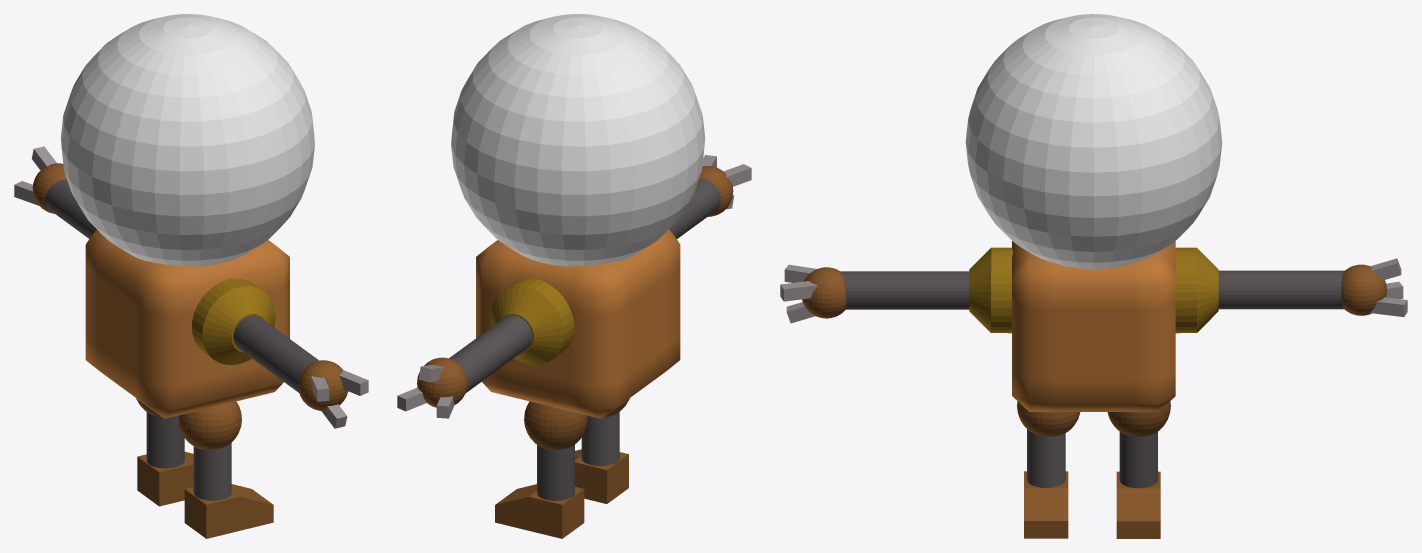
Rendered from Zombiebot.fbx.
The picture shows the model from 3 angles, left to right: view 1: azimuth 30°, elevation 25°; view 2: azimuth 150°, elevation 25°; view 3: azimuth 270°, elevation 25°; orthographic projection.
Parts seen in each view (by area): view 1: Sphere.002, Mball, Cylinder, Cube, Cylinder.002, Sphere.001, Cube.001, Cylinder.003, Cylinder.005, Sphere.005, Cylinder.004, Sphere.006 (+1 smaller); view 2: Sphere.002, Mball, Cylinder.001, Cube.001, Cylinder.004, Sphere, Cube, Cylinder.005, Cylinder.003, Sphere.006, Cylinder.002, Sphere.005 (+2 smaller); view 3: Sphere.002, Mball, Cylinder.004, Cylinder.002, Cylinder.001, Cylinder, Cube, Cube.001, Cylinder.003, Cylinder.005, Sphere.006, Sphere.005 (+2 smaller).
Boxes of the visible parts, x1,y1,x2,y2 form: Sphere.002: (61,14,314,266); Mball: (85,229,289,418); Cylinder: (191,278,275,364); Cube: (184,484,273,538); Cylinder.002: (233,315,318,392); Sphere.001: (178,401,241,449); Cube.001: (137,451,193,506); Cylinder.003: (193,443,231,500); Cylinder.005: (146,412,184,468); Sphere.005: (298,360,347,410); Cylinder.004: (45,179,96,238); Sphere.006: (32,163,66,213); Sphere.002: (451,14,705,266); Mball: (476,229,680,418); Cylinder.001: (490,278,574,364); Cube.001: (495,484,584,538); Cylinder.004: (449,315,532,392); Sphere: (524,401,587,449); Cube: (575,449,628,503); Cylinder.005: (537,444,574,500); Cylinder.003: (581,412,619,465); Sphere.006: (417,357,467,407); Cylinder.002: (669,179,720,238); Sphere.005: (699,166,733,216); Sphere.002: (965,14,1222,269); Mball: (1012,241,1175,411); Cylinder.004: (1218,270,1344,309); Cylinder.002: (840,271,969,309); Cylinder.001: (1174,247,1218,333); Cylinder: (969,247,1012,333); Cube: (1024,471,1068,538); Cube.001: (1116,471,1160,538); Cylinder.003: (1027,429,1065,487); Cylinder.005: (1119,432,1157,488); Sphere.006: (1341,264,1386,315); Sphere.005: (802,267,846,318).
Bounding box in the file's own units: 400 × 840 × 977.
